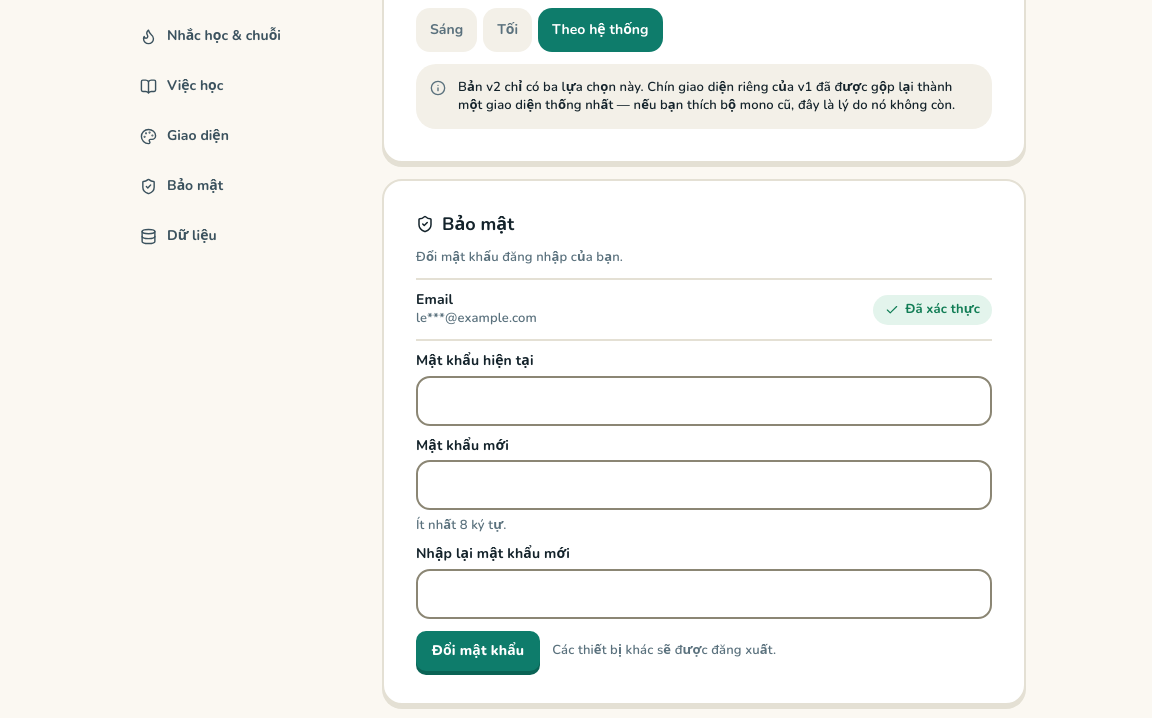
Test: SettingsPage › sends the two passwords as strings and clears the form on success
The width and height of the screenshot is (1152, 718).
(page scrolled)
In the password field labelled "Mật khẩu hiện tại": {"x": 704, "y": 401} [416,376,992,426], type "MatKhauCu123"
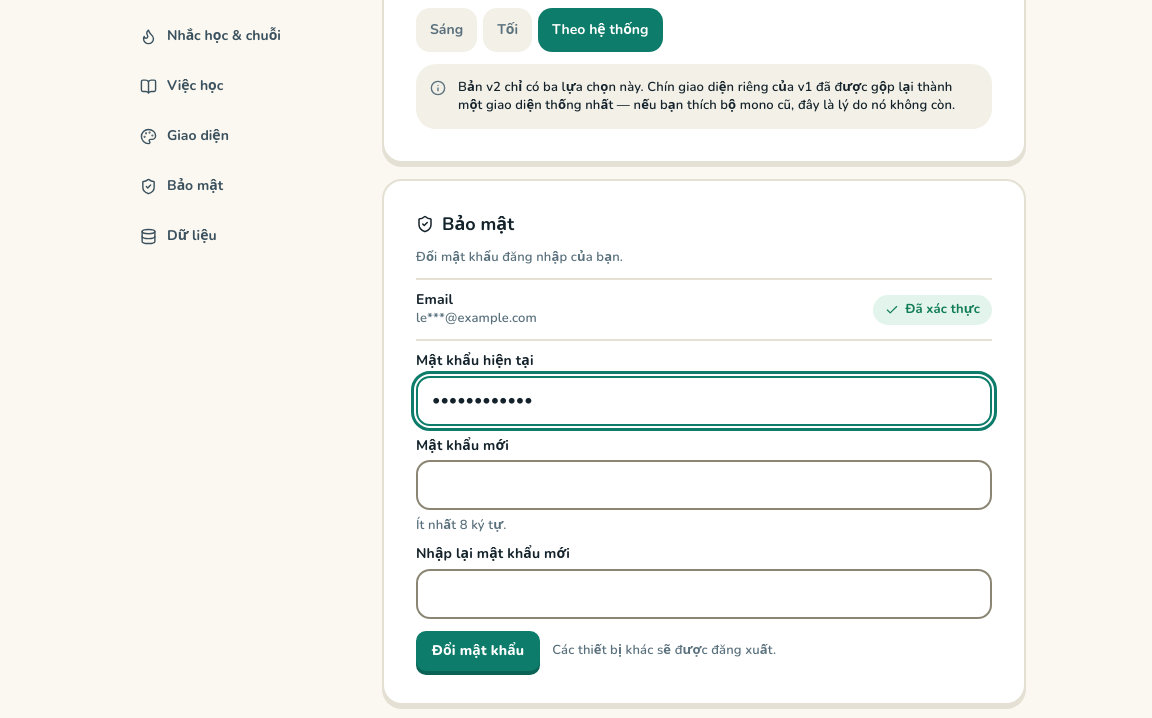
In the password field labelled "Mật khẩu mới": {"x": 704, "y": 485} [416,460,992,510], type "MatKhauMoi123"
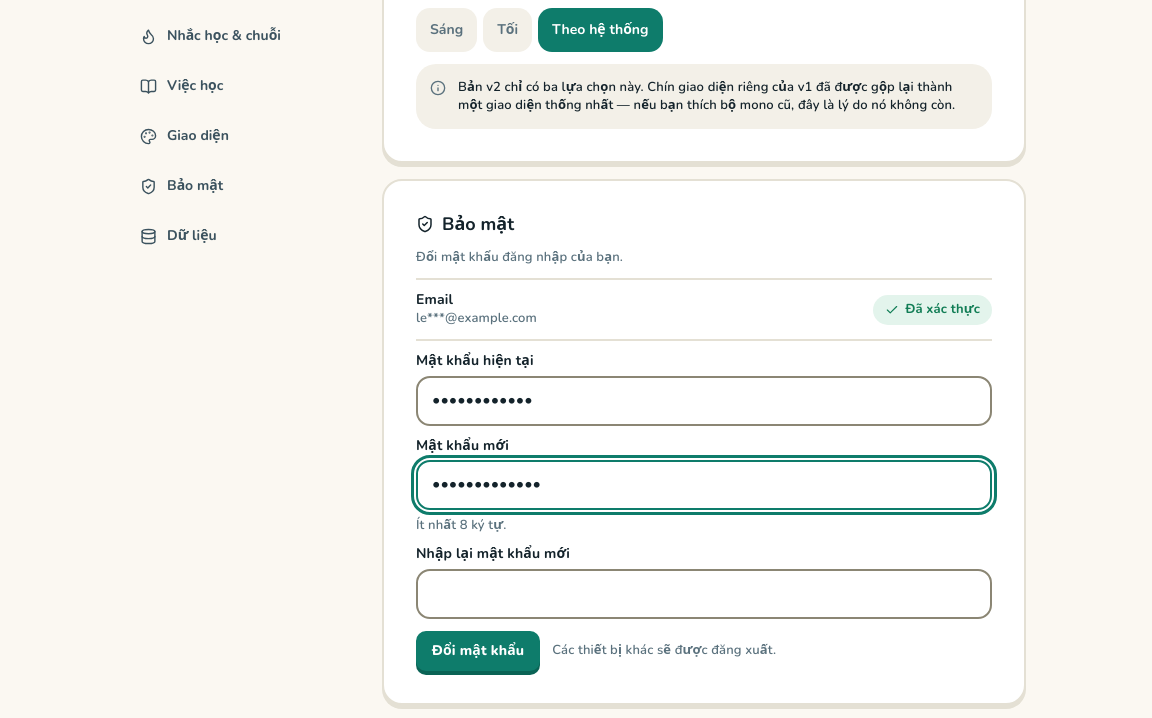
In the password field labelled "Nhập lại mật khẩu mới": {"x": 704, "y": 594} [416,569,992,618], type "MatKhauMoi123"
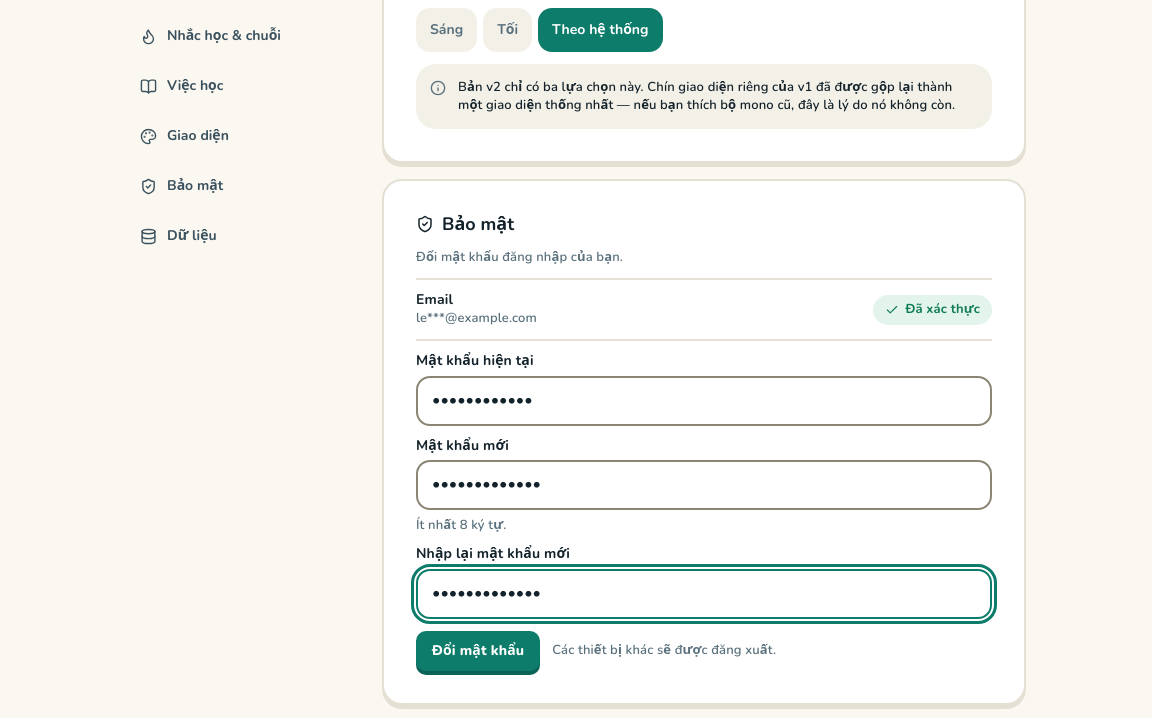
Click the button "Đổi mật khẩu": {"x": 478, "y": 650} [416,630,540,670]
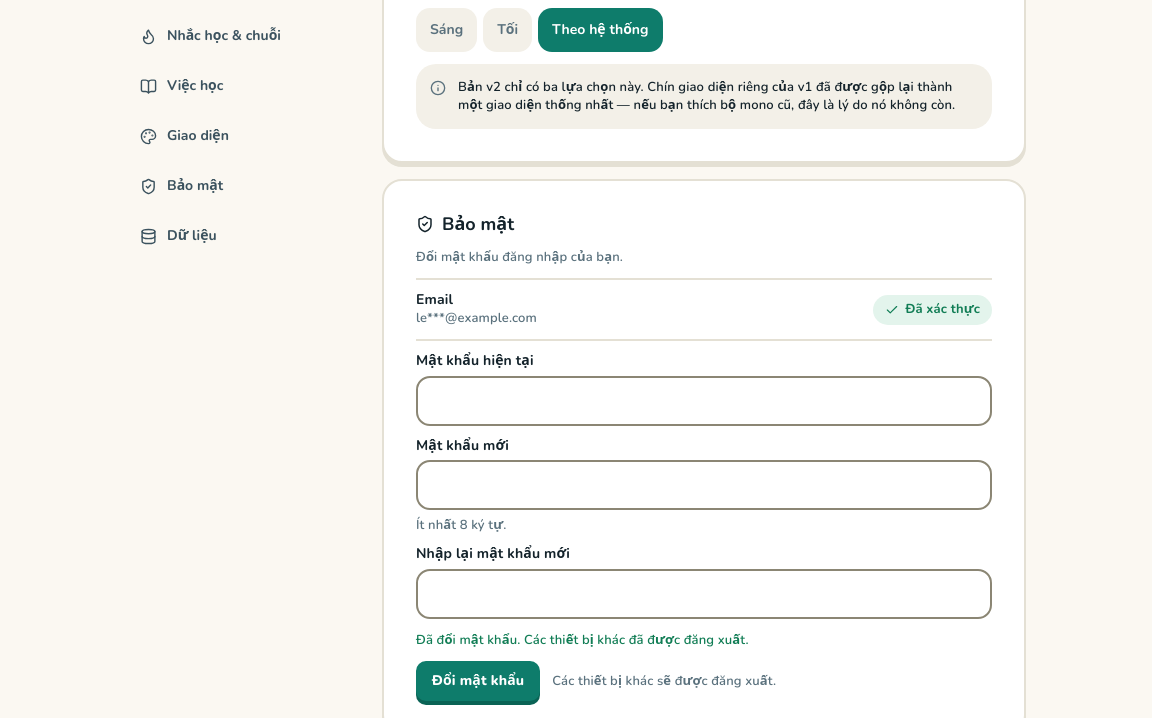
Now the text "Đã đổi mật khẩu. Các thiết bị khác đã được đăng xuất." is shown, box [416,630,749,648]
